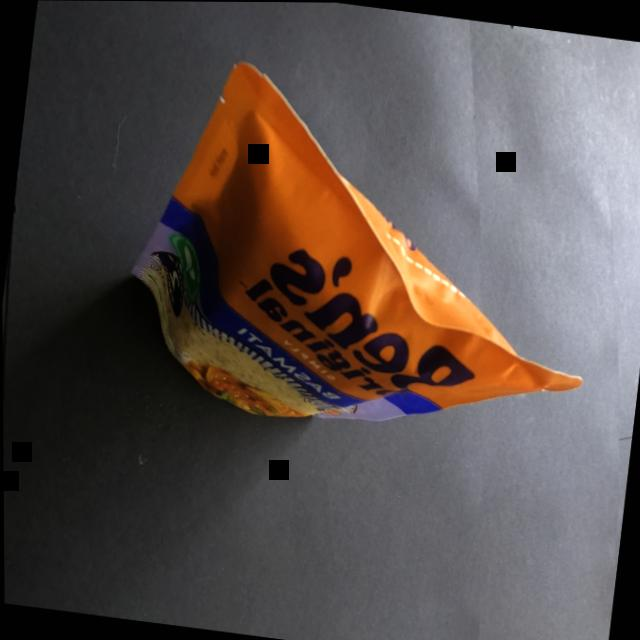Basmatirice: (81, 34, 624, 487)
